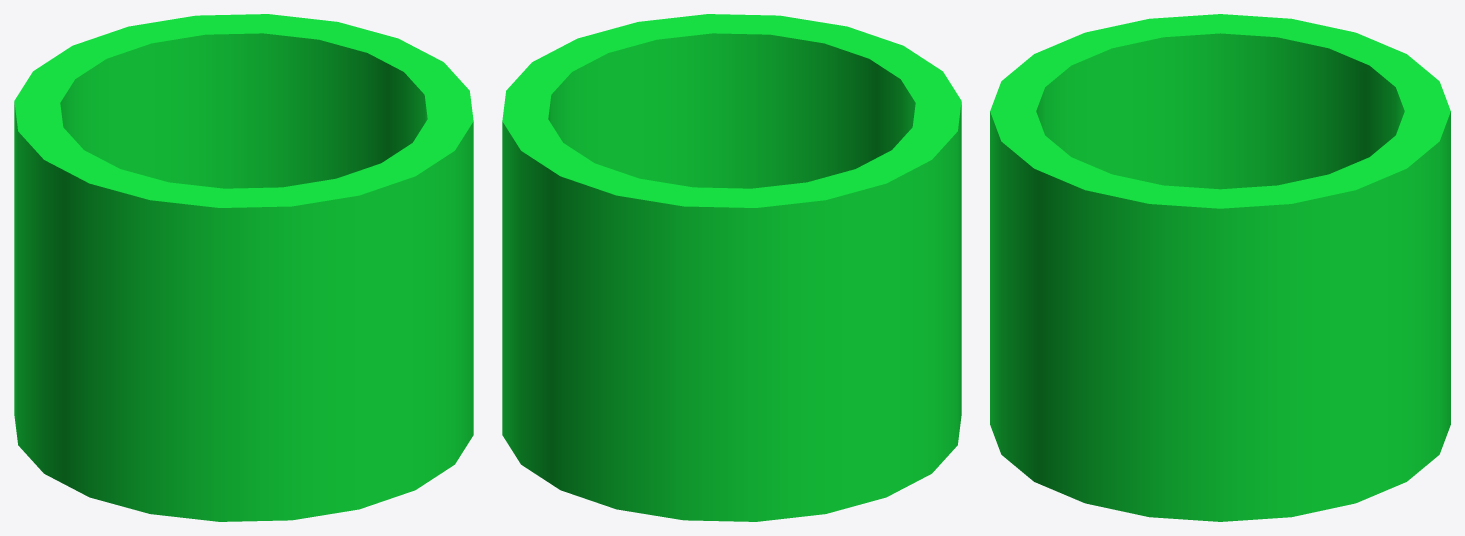
The model's file is Pipe.fbx.
The picture shows the model from 3 angles, left to right: view 1: azimuth 30°, elevation 25°; view 2: azimuth 150°, elevation 25°; view 3: azimuth 270°, elevation 25°; orthographic projection.
Parts seen in each view (by area): view 1: Pipe; view 2: Pipe; view 3: Pipe.
Part boxes in pixels (x1,y1,x2,y2): Pipe: (14,14,473,521); Pipe: (502,14,961,521); Pipe: (990,14,1450,521).
Bounding box in the file's own units: 400 × 300 × 400.
